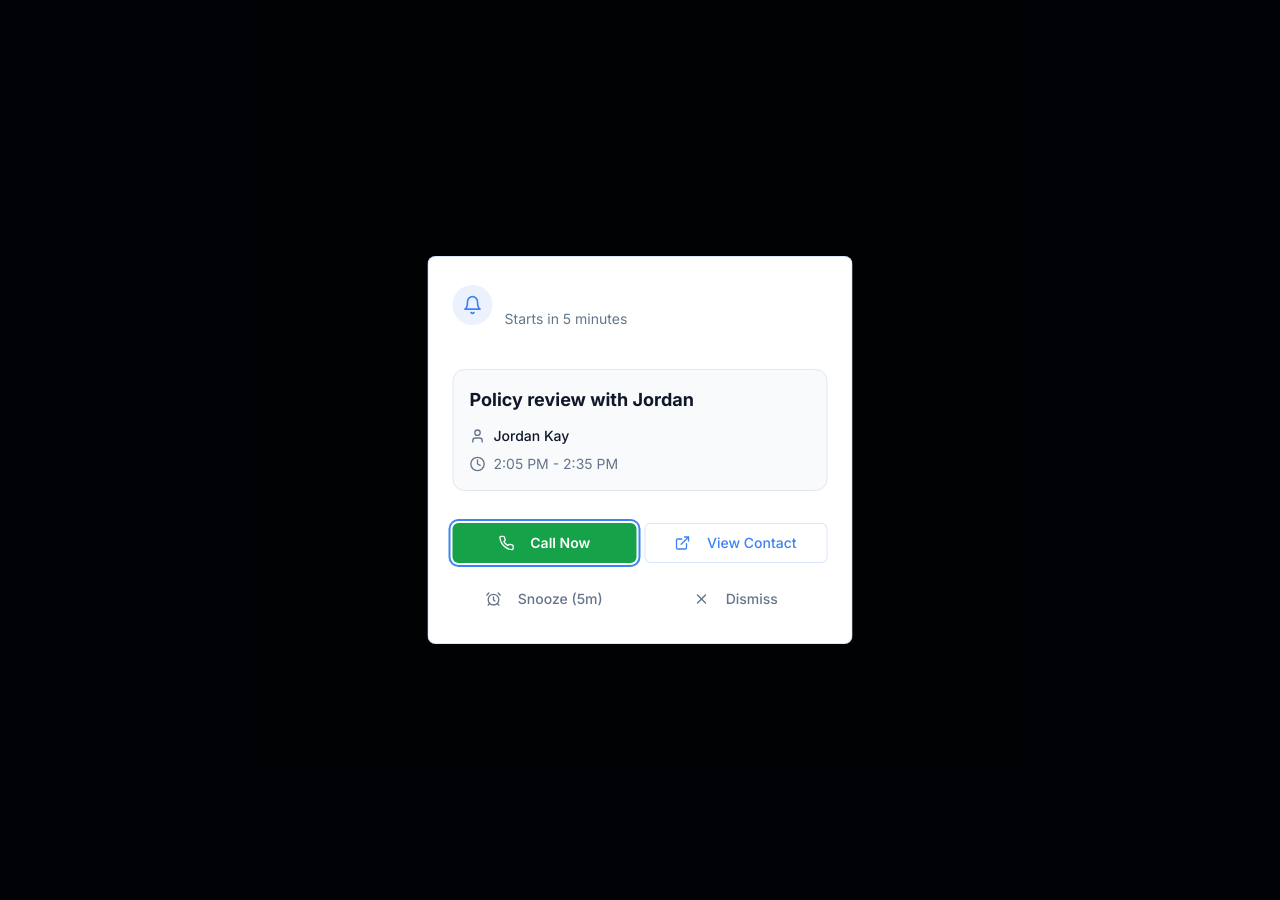
Test case: ReminderPopup revalidates queued and on-screen reminders when the list refreshes › positive control: a second due reminder is QUEUED and shows after the first is dismissed
expect the dialog is shown: met, box [428,256,852,644]
expect the heading "Policy review with Jordan" is shown: met, box [470,389,694,410]
Click the button "Dismiss".
click(736, 599)  # box [644,579,828,619]
Wait 250 ms
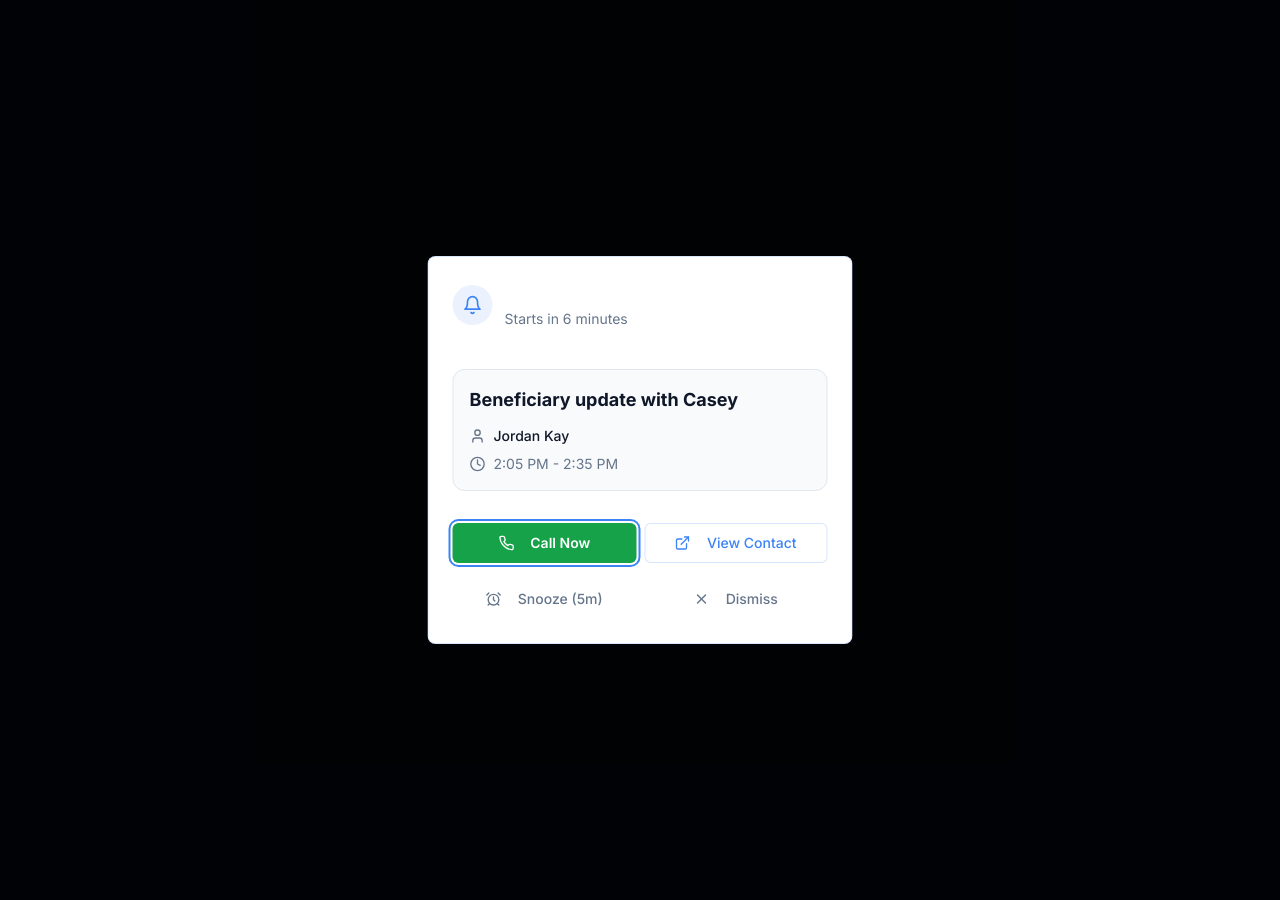
expect the dialog is shown: met, box [428,256,852,644]
expect the heading "Beneficiary update with Casey" is shown: met, box [470,389,738,410]
